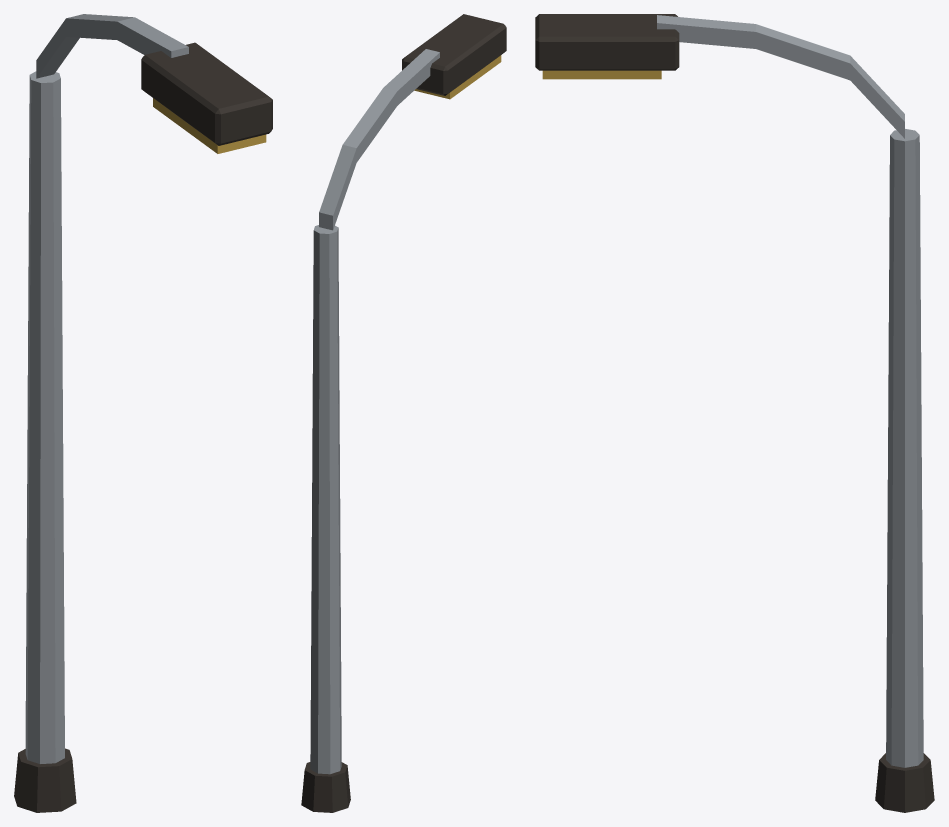
The model's file is sl_standard.glb.
3 views of the same model, side by side, from view 1: azimuth 30°, elevation 25°; view 2: azimuth 150°, elevation 25°; view 3: azimuth 270°, elevation 25° (orthographic). The views are drawn at different scales.
Visible parts, largest first — view 1: sl_standard_pole, sl_standard_head, sl_standard_base, sl_standard_arm2, sl_standard_arm1, sl_standard_arm0, sl_standard_lens; view 2: sl_standard_pole, sl_standard_head, sl_standard_base, sl_standard_arm0, sl_standard_arm1, sl_standard_arm2, sl_standard_lens; view 3: sl_standard_pole, sl_standard_head, sl_standard_base, sl_standard_arm1, sl_standard_arm2, sl_standard_arm0, sl_standard_lens.
Part boxes in pixels (<box>): sl_standard_pole: <box>25,71,64,763</box>; sl_standard_head: <box>141,42,272,145</box>; sl_standard_base: <box>14,748,76,812</box>; sl_standard_arm2: <box>117,17,188,57</box>; sl_standard_arm1: <box>66,14,133,39</box>; sl_standard_arm0: <box>36,19,79,78</box>; sl_standard_lens: <box>153,98,266,153</box>; sl_standard_pole: <box>310,225,341,774</box>; sl_standard_head: <box>402,14,506,95</box>; sl_standard_base: <box>301,762,350,812</box>; sl_standard_arm0: <box>319,145,356,230</box>; sl_standard_arm1: <box>343,88,397,162</box>; sl_standard_arm2: <box>383,49,439,105</box>; sl_standard_lens: <box>414,55,501,99</box>; sl_standard_pole: <box>886,129,923,767</box>; sl_standard_head: <box>535,14,679,70</box>; sl_standard_base: <box>875,753,934,812</box>; sl_standard_arm1: <box>756,24,850,80</box>; sl_standard_arm2: <box>657,15,755,48</box>; sl_standard_arm0: <box>850,56,904,138</box>; sl_standard_lens: <box>542,70,661,79</box>.
Bounding box in the file's own units: 0.62 × 8.69 × 4.02.
